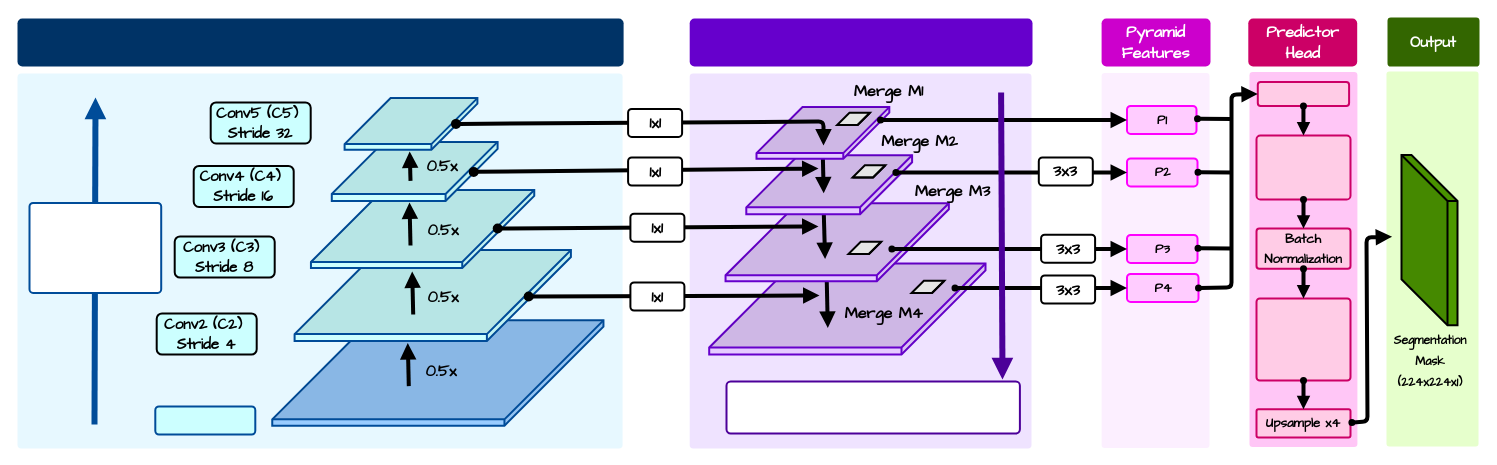
Some shapes in this 1497 by 465 pixel diagram are drawn without their labels. Each missing label, with the centre of its shape:
Add: pixel 1303 93
Bilinear upsample previous layer by 2 and add to the lateral connection: pixel 872 407
Bottom-Up (Custom Backbone Network): pixel 320 42
Classifier (1x1 Conv with 21 Classes): pixel 1303 339
Image: pixel 205 420
Segmentation Head (3x3 Conv): pixel 1303 167
Semantic Value Increases whilst Image Resolution Decreases: pixel 95 247
Top-Down: pixel 860 42
